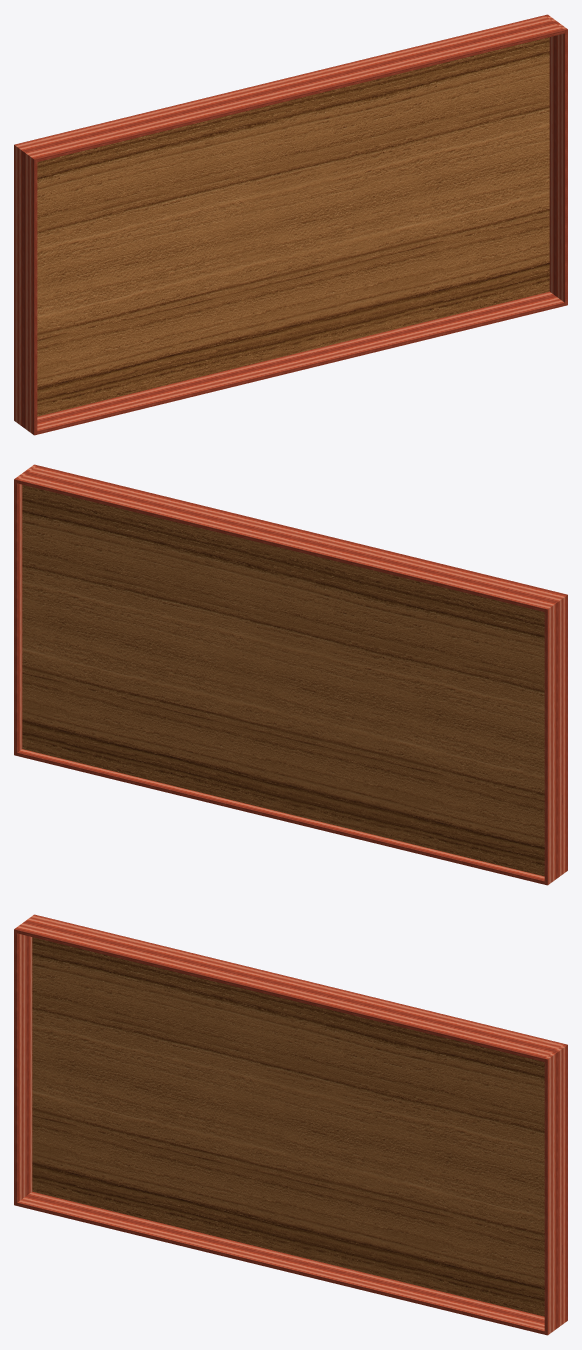
Rendered from Bed.obj.
3 renders of one model, top to bottom at view 1: azimuth 30°, elevation 25°; view 2: azimuth 150°, elevation 25°; view 3: azimuth 330°, elevation 25°, orthographic.
Parts seen in each view (by area): view 1: Root|BedExpress_(Default)|Default|unfinished_teak_2d, Root|BedExpress_(Default)|Default|satin_finished_rosewood_2d, Root|BedExpress_(Default)|Default|satin_finished_rosewood_2d-2; view 2: Root|BedExpress_(Default)|Default|unfinished_teak_2d, Root|BedExpress_(Default)|Default|satin_finished_rosewood_2d, Root|BedExpress_(Default)|Default|satin_finished_rosewood_2d-2; view 3: Root|BedExpress_(Default)|Default|unfinished_teak_2d, Root|BedExpress_(Default)|Default|satin_finished_rosewood_2d, Root|BedExpress_(Default)|Default|satin_finished_rosewood_2d-2.
Boxes of the visible parts, x1,y1,x2,y2 form: Root|BedExpress_(Default)|Default|unfinished_teak_2d: (37,37,549,416); Root|BedExpress_(Default)|Default|satin_finished_rosewood_2d: (17,15,564,434); Root|BedExpress_(Default)|Default|satin_finished_rosewood_2d-2: (14,14,567,435); Root|BedExpress_(Default)|Default|unfinished_teak_2d: (22,484,544,876); Root|BedExpress_(Default)|Default|satin_finished_rosewood_2d: (17,465,564,884); Root|BedExpress_(Default)|Default|satin_finished_rosewood_2d-2: (14,464,567,885); Root|BedExpress_(Default)|Default|unfinished_teak_2d: (32,937,544,1316); Root|BedExpress_(Default)|Default|satin_finished_rosewood_2d: (17,915,564,1334); Root|BedExpress_(Default)|Default|satin_finished_rosewood_2d-2: (14,914,567,1335).
Bounding box in the file's own units: 3.04 × 1.5 × 0.2.
